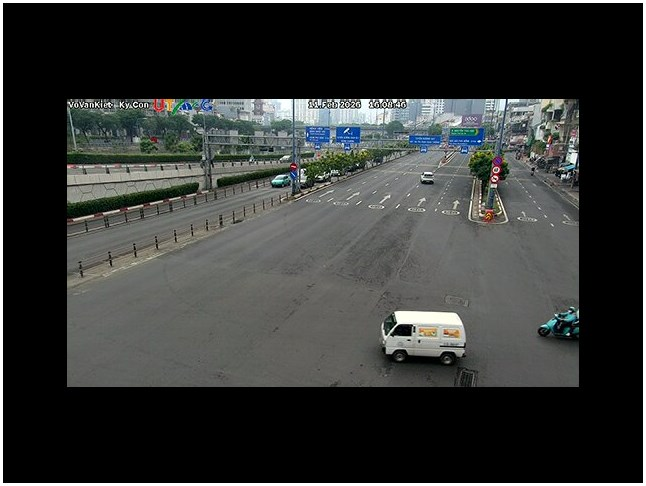car: (381, 310, 467, 365), (537, 306, 579, 339), (271, 174, 291, 187), (421, 170, 435, 184)
